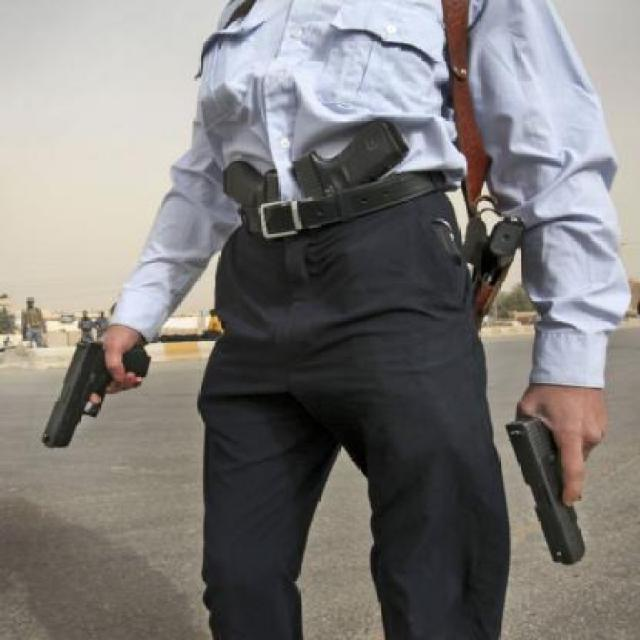Guns: (503, 417, 588, 568), (39, 344, 151, 446), (292, 120, 413, 202), (224, 161, 281, 232), (470, 249, 510, 333), (483, 217, 524, 257)
